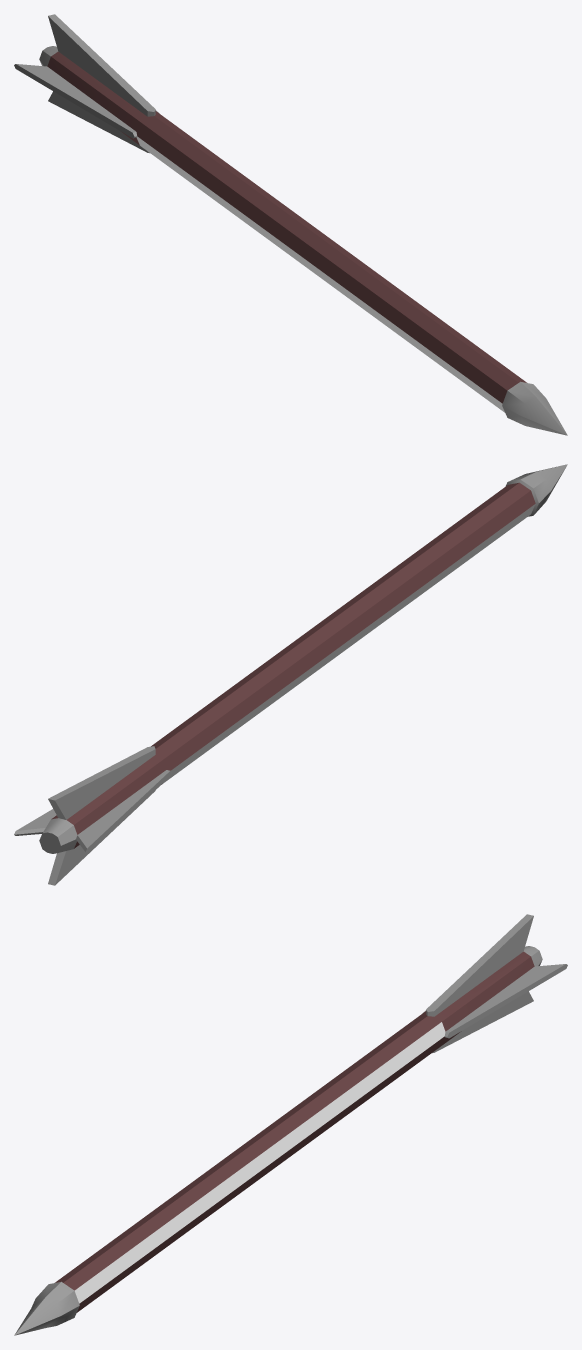
File: CrossBow_Bolt.fbx
3 views of the same model, one above another, from view 1: azimuth 30°, elevation 25°; view 2: azimuth 150°, elevation 25°; view 3: azimuth 330°, elevation 25° (orthographic).
Parts seen in each view (by area): view 1: Bolt_projectile; view 2: Bolt_projectile; view 3: Bolt_projectile.
Boxes of the visible parts, x1=… form: Bolt_projectile: x1=14, y1=14, x2=567, y2=435; Bolt_projectile: x1=14, y1=464, x2=567, y2=885; Bolt_projectile: x1=14, y1=914, x2=567, y2=1335.
Bounding box in the file's own units: 93.07 × 81.73 × 1025.
